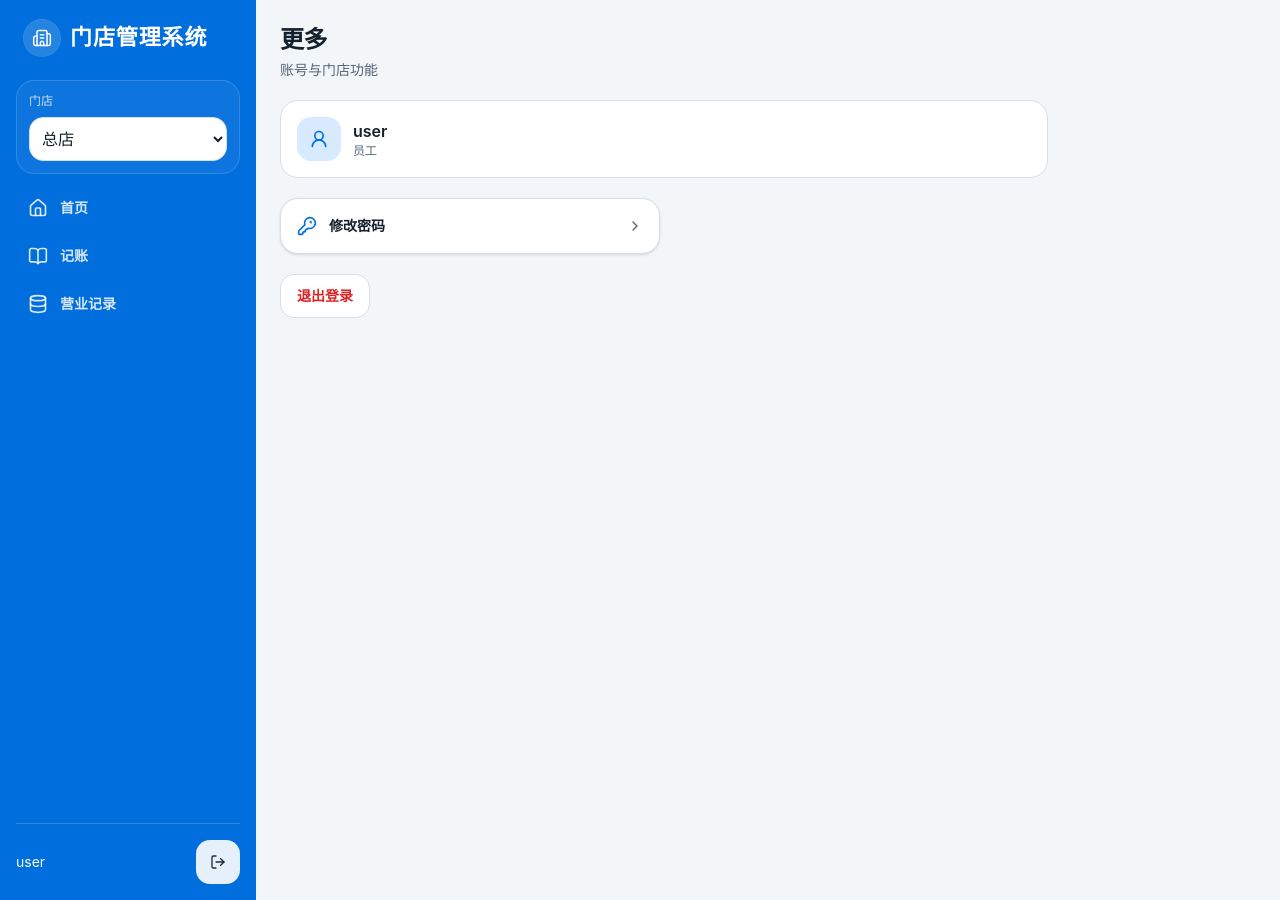
Scenario: App › keeps More selected while changing an account password
The width and height of the screenshot is (1280, 900).
Click the link "修改密码" at (357,226), box top-left (280, 198), bottom-right (660, 254)
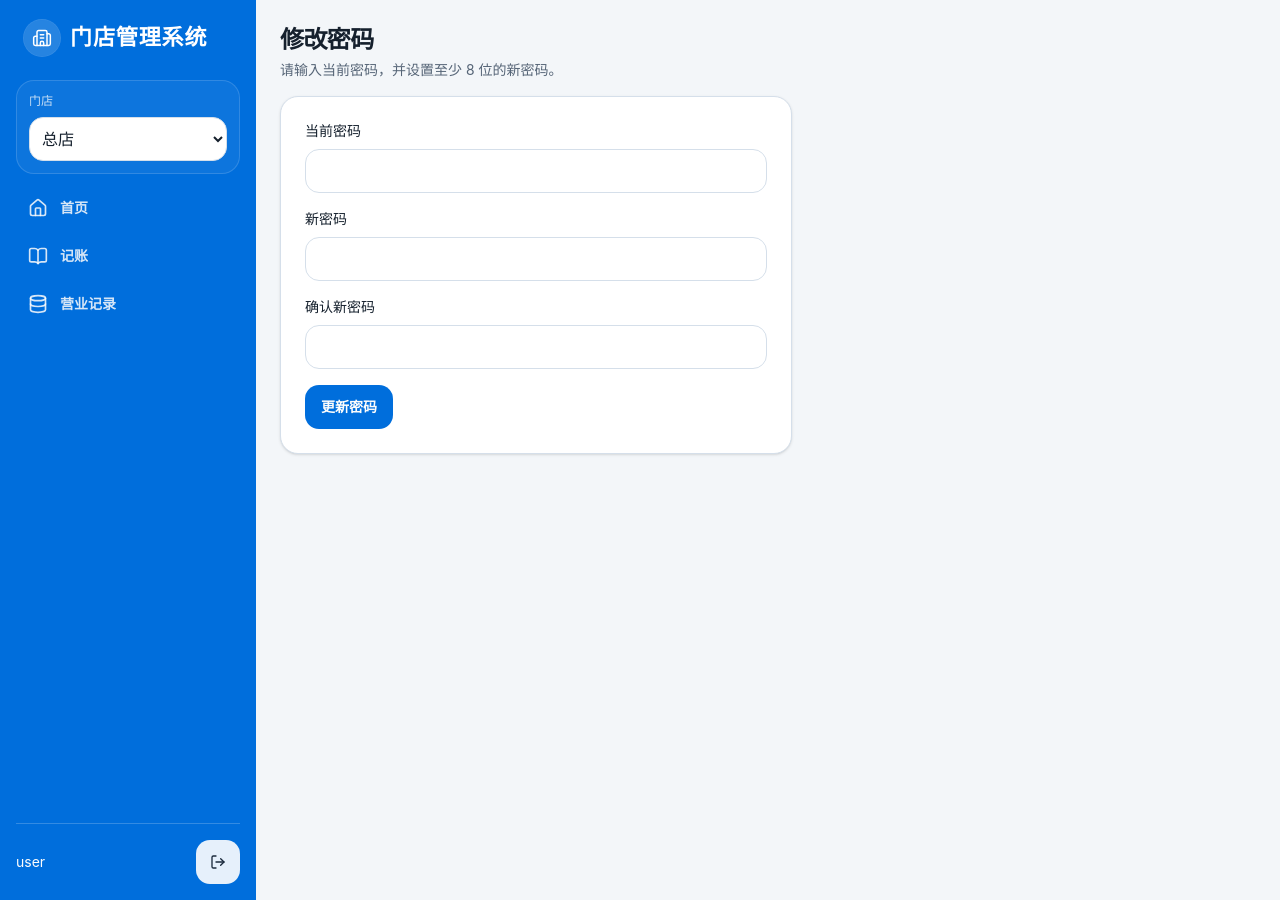
Check: the heading "修改密码" is shown, box top-left (280, 25), bottom-right (374, 54)
